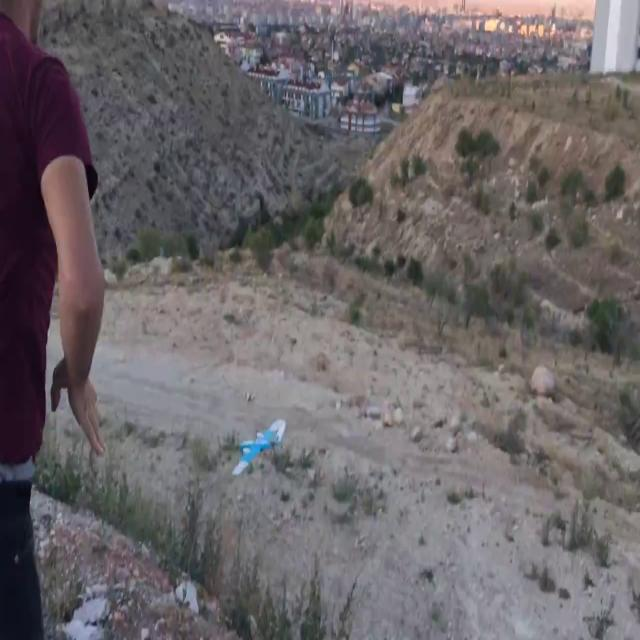iha: (233, 420, 287, 471)
